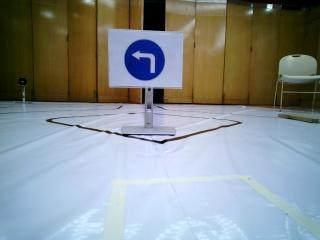left: (114, 30, 177, 82)
